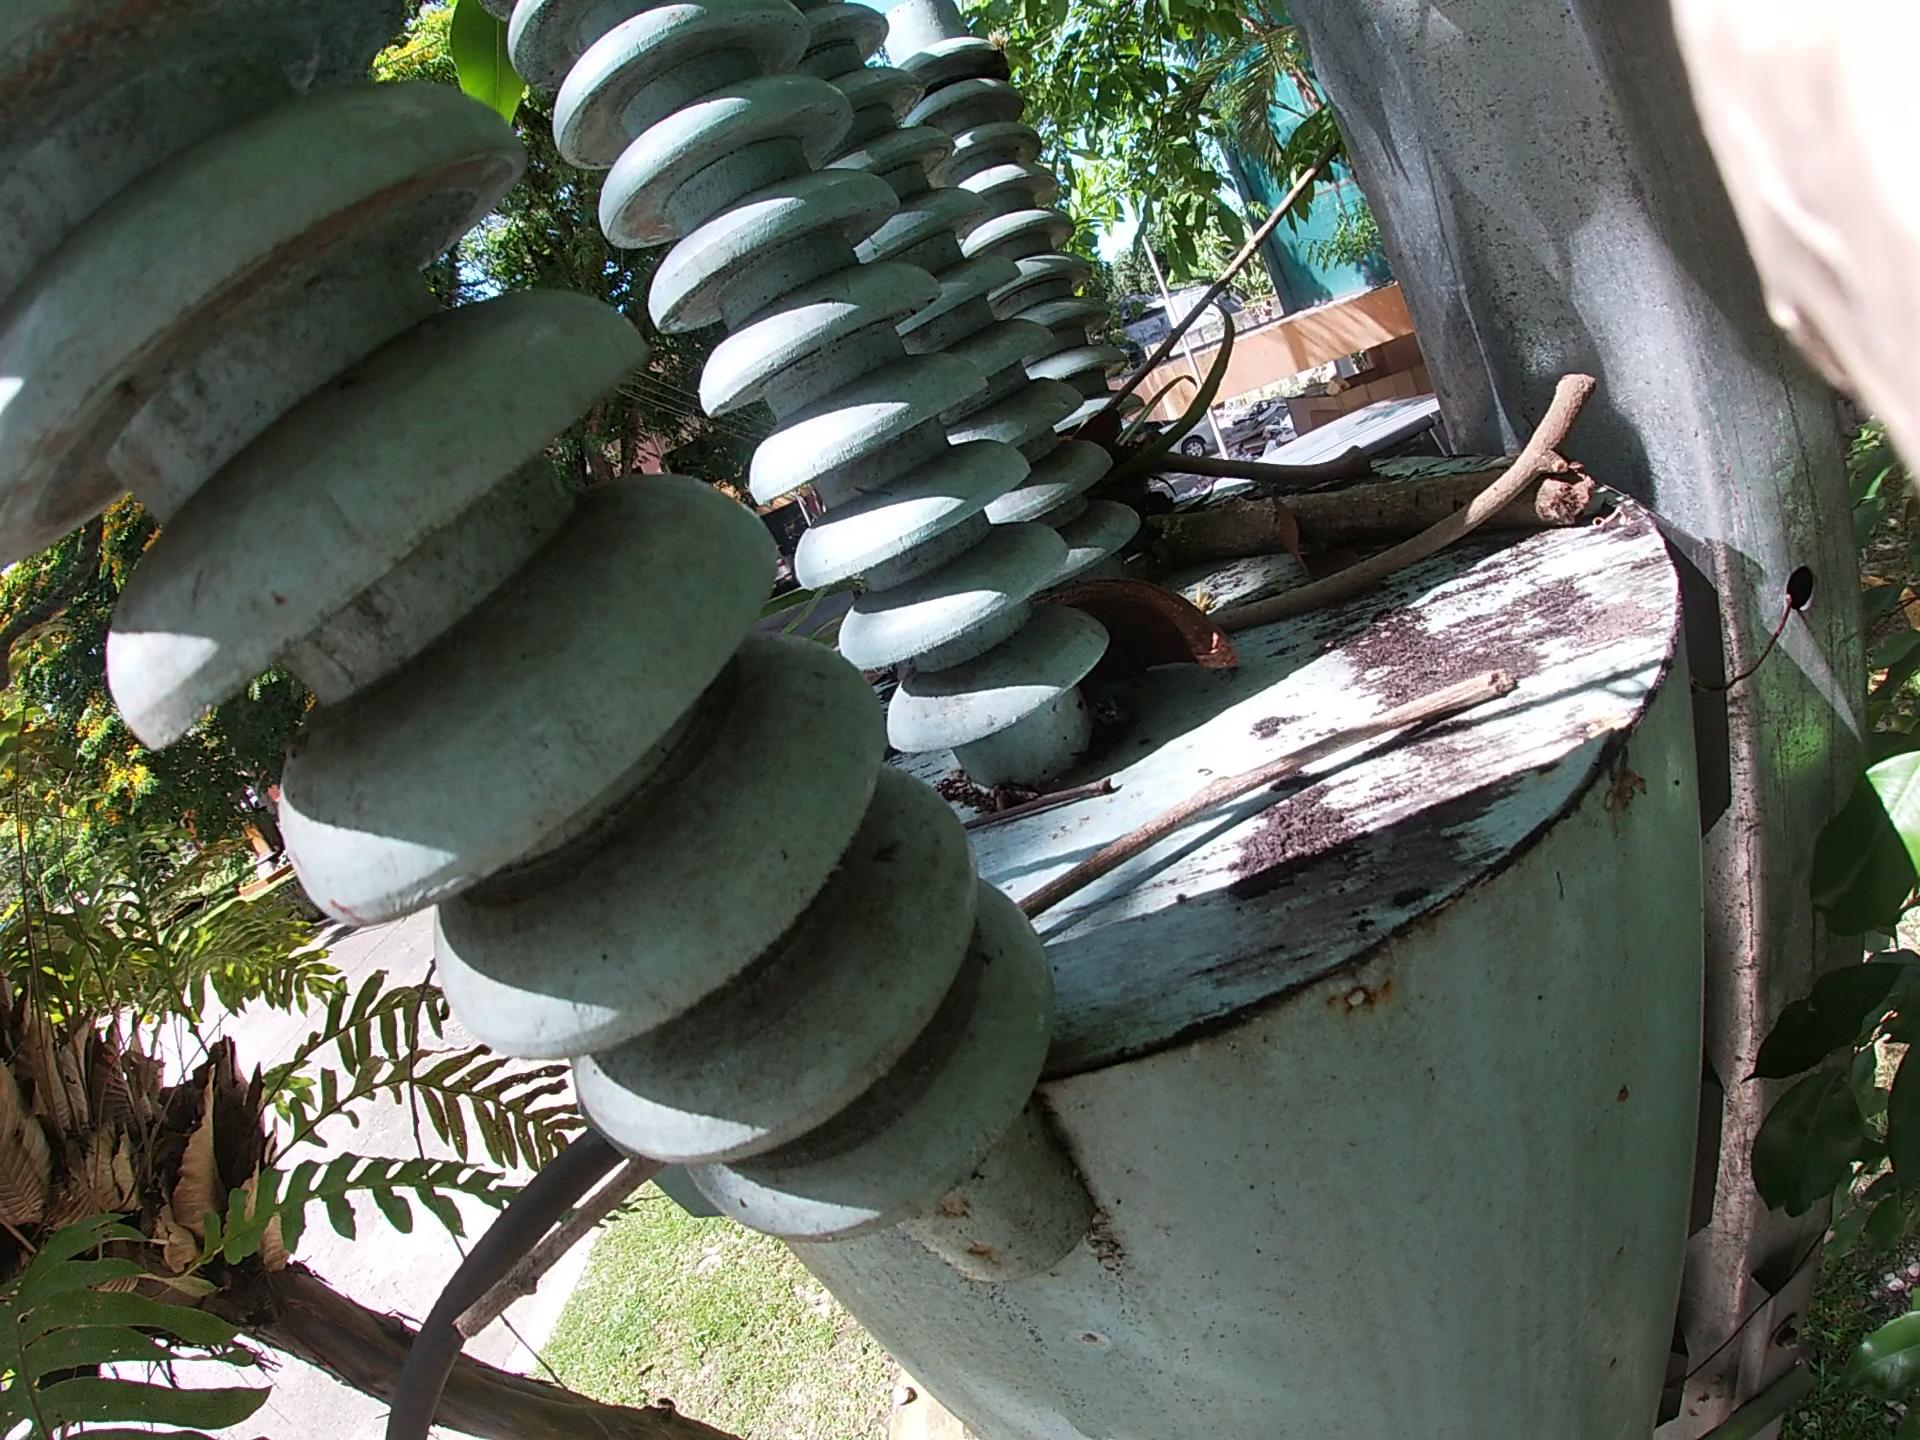branch with leaves: (1008, 375, 1621, 569)
mahogany fruit: (1028, 546, 1270, 746)
tree branch: (432, 593, 1577, 1364), (1043, 80, 1397, 449), (1199, 440, 1593, 709), (912, 743, 1120, 830)
